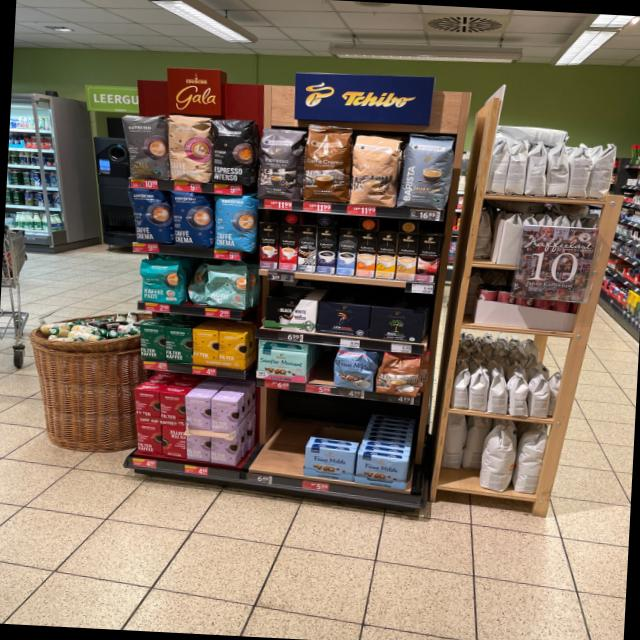BM Gemahlen: (368, 306, 426, 344)
BW Gemahlen: (263, 294, 319, 332)
Barista CC: (400, 130, 455, 209)
CC Mild: (350, 133, 402, 207)
CC Vollmundig: (376, 351, 422, 396)
CC Vollmundig 36 Pads: (303, 122, 352, 202)
Empty Shelf: (252, 400, 306, 474)
Espresso M Art: (257, 125, 304, 202)
FM 36 Pads: (333, 346, 376, 394)
FM Gemahlen: (355, 452, 410, 491), (302, 444, 356, 481)
LG Gemahlen: (318, 300, 370, 338)
SM Gemahlen: (256, 348, 308, 383)
Simo CC Colombia: (416, 234, 440, 282)
Simo CCMild bigpack: (375, 232, 397, 279)
Simo CCVollmundig bigpack: (356, 230, 376, 278)
Simo Decaff: (396, 232, 418, 280)
Simo Es Brazil: (278, 223, 298, 271)
Simo Es Caramel: (258, 222, 280, 268)
Simo Es Elegant: (298, 225, 318, 272)
Simo Es Kraft: (316, 227, 337, 274)
Simo Es Vanilla: (337, 228, 358, 276)
